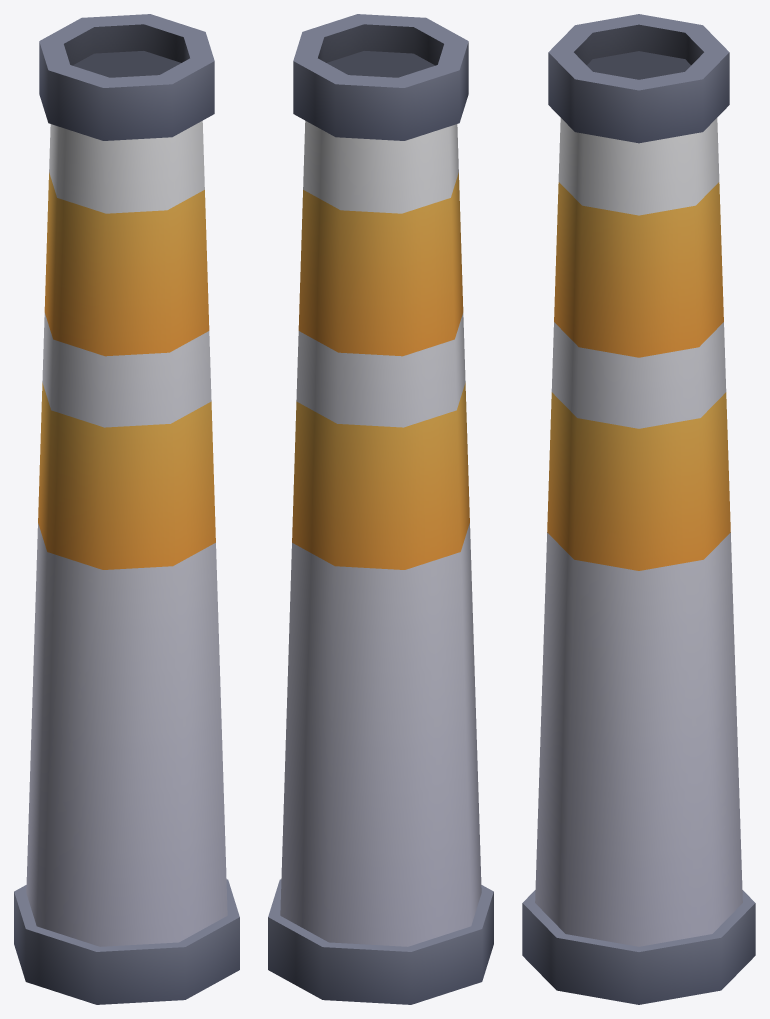
Rendered from chimney-medium.glb.
3 views of the same model, side by side, from view 1: azimuth 30°, elevation 25°; view 2: azimuth 150°, elevation 25°; view 3: azimuth 270°, elevation 25° (orthographic).
Visible parts, largest first — view 1: chimney-medium; view 2: chimney-medium; view 3: chimney-medium.
Boxes of the visible parts, x1,y1,x2,y2 form: chimney-medium: (14,14,239,1004); chimney-medium: (268,14,493,1004); chimney-medium: (522,14,755,1004).
Bounding box in the file's own units: 0.45 × 1.92 × 0.45.
